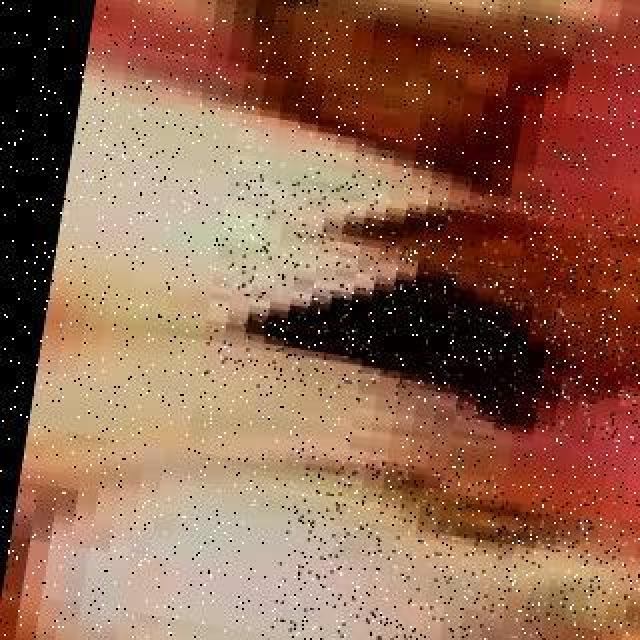cavities: (118, 176, 640, 490), (225, 0, 585, 242), (418, 502, 640, 640)
